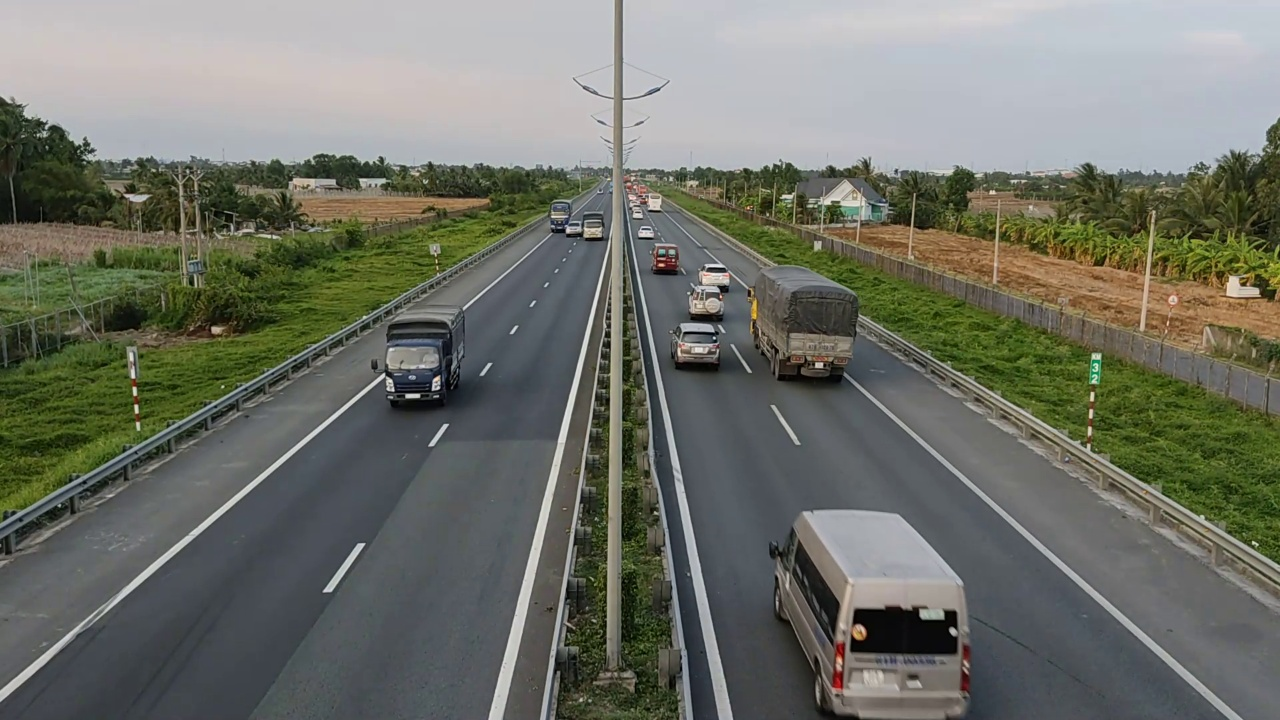car: (767, 507, 973, 719), (669, 322, 723, 369), (697, 263, 731, 291), (650, 243, 680, 273)
truck: (747, 264, 859, 382), (381, 301, 466, 408), (583, 211, 605, 240)
